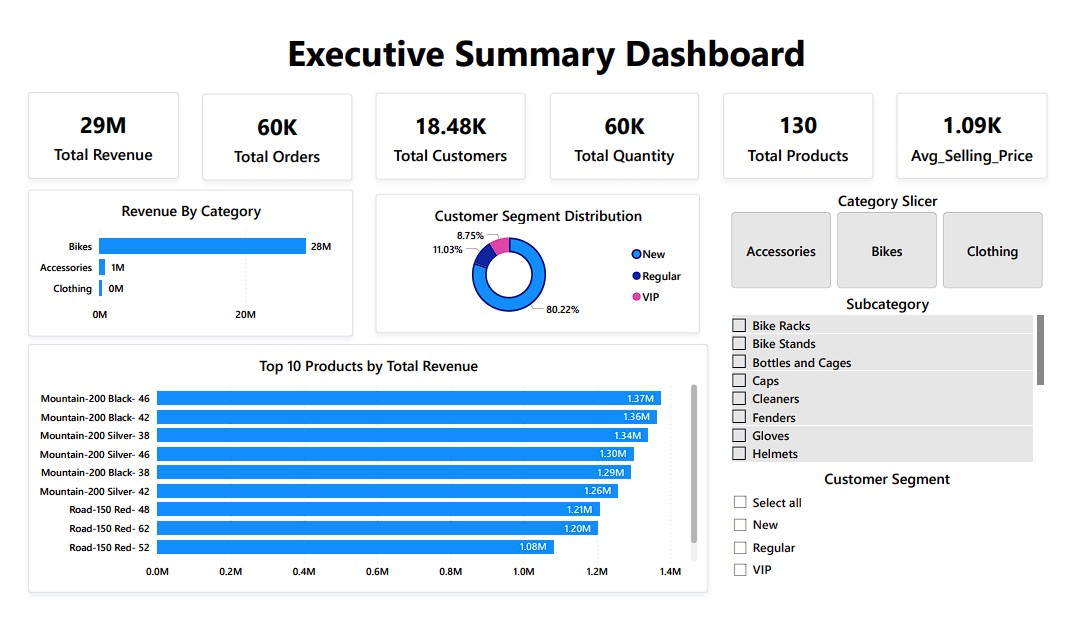

The page's visual inventory and layout, read from the dashboard file:
{"tool":"powerbi","page":{"name":"Executive Summary Dashboard","canvas":[1280,720],"ordinal":0},"visuals":[{"type":"card","fields":{"Values":["Sum(report_customers.total_sales)"]},"box":[17.7,97.5,181,103.8],"z":0},{"type":"card","fields":{"Values":["Count(report_customers.customer_key)"]},"box":[435.5,97.8,179.8,103.9],"z":1000},{"type":"card","fields":{"Values":["Count(report_products.product_key)"]},"box":[852,97.8,179.8,102.7],"z":2000},{"type":"card","fields":{"Values":["Sum(report_products.total_orders)"]},"box":[227.2,99,179.8,103.9],"z":3000},{"type":"card","fields":{"Values":["Sum(report_customers.total_quantity)"]},"box":[643.7,97.8,179.8,103.9],"z":4000},{"type":"card","fields":{"Values":["Avg(report_products.average_selling_price)"]},"box":[1060.2,97.8,181,102.7],"z":5000},{"type":"textbox","box":[259.6,15.2,760.8,68.4],"z":6000},{"type":"barChart","title":"Revenue By Category","fields":{"Y":["Sum(report_products.total_sales)"],"Category":["report_products.category"]},"box":[17.7,213.9,389.9,175.9],"z":7000},{"type":"donutChart","title":"Customer Segment Distribution","fields":{"Category":["report_customers.customer_segment"],"Y":["Count(report_customers.customer_key)"]},"box":[435.4,219,388.6,167.1],"z":8000},{"type":"barChart","title":"Top 10 Products by Total Revenue","fields":{"Category":["report_products.product_name"],"Y":["Sum(report_products.total_sales)"]},"box":[17.7,398.7,816.5,298.7],"z":9000},{"type":"advancedSlicerVisual","title":"Category Slicer","fields":{"Values":["report_products.category"]},"box":[857,213.9,384.8,124.1],"z":10000},{"type":"listSlicer","title":"Subcategory","fields":{"Values":["report_products.subcategory"]},"box":[857,338,384.8,210.1],"z":11000},{"type":"slicer","title":"Customer Segment","fields":{"Values":["report_customers.customer_segment"]},"box":[857,548.1,383.5,149.4],"z":12000}]}

Visuals, with their boxes in screenshot pixels (x1, y1, x2, y2), scaled from the page's 1280x720 canvas onto the 1092x622 screenshot:
card - Sum(report_customers.total_sales): rect(15, 84, 170, 174)
card - Count(report_customers.customer_key): rect(372, 84, 525, 174)
card - Count(report_products.product_key): rect(727, 84, 880, 173)
card - Sum(report_products.total_orders): rect(194, 86, 347, 175)
card - Sum(report_customers.total_quantity): rect(549, 84, 703, 174)
card - Avg(report_products.average_selling_price): rect(904, 84, 1059, 173)
textbox: rect(221, 13, 871, 72)
"Revenue By Category" barChart: rect(15, 185, 348, 337)
"Customer Segment Distribution" donutChart: rect(371, 189, 703, 334)
"Top 10 Products by Total Revenue" barChart: rect(15, 344, 712, 602)
"Category Slicer" advancedSlicerVisual: rect(731, 185, 1059, 292)
"Subcategory" listSlicer: rect(731, 292, 1059, 473)
"Customer Segment" slicer: rect(731, 473, 1058, 603)
